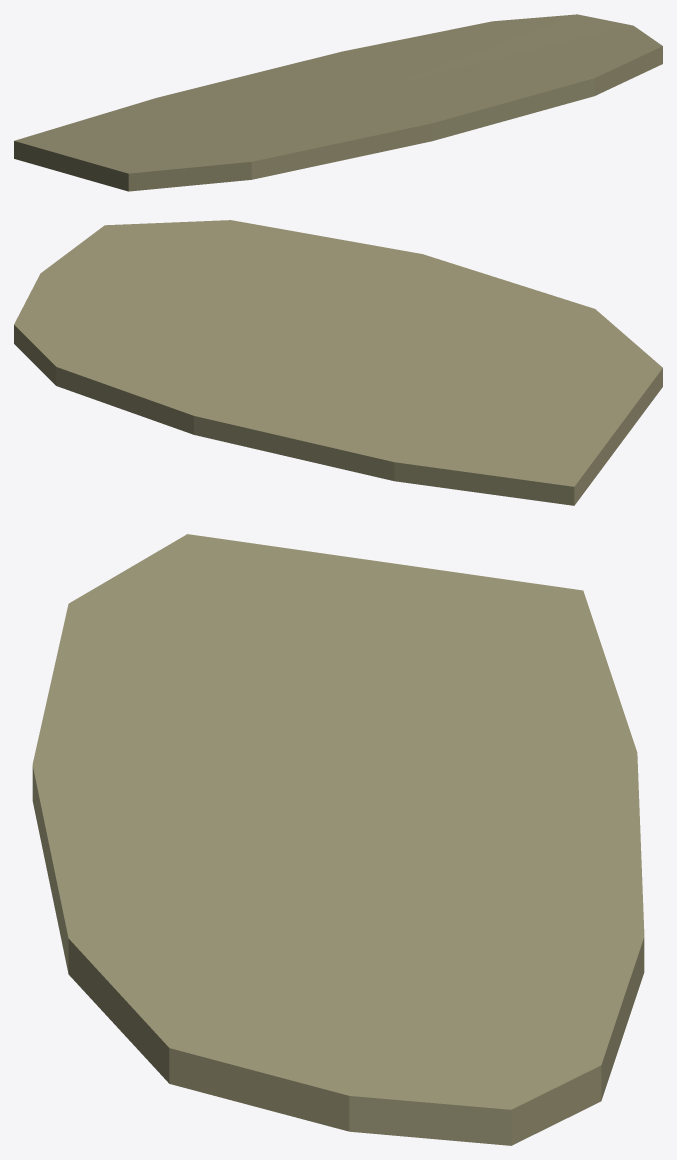
Rendered from animal_locust_wing.obj.
3 renders of one model, top to bottom at view 1: azimuth 30°, elevation 25°; view 2: azimuth 150°, elevation 25°; view 3: azimuth 270°, elevation 25°, orthographic. The views are drawn at different scales.
Visible parts, largest first — view 1: animal_locust_wing; view 2: animal_locust_wing; view 3: animal_locust_wing.
Boxes of the visible parts, x1,y1,x2,y2 form: animal_locust_wing: (14, 14, 662, 191); animal_locust_wing: (14, 220, 662, 505); animal_locust_wing: (32, 534, 644, 1145).
Size of the model in its own units: 0.4392 by 0.0549 by 0.2074.
